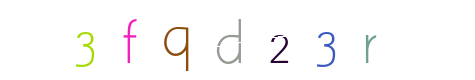2: (213, 0, 293, 80)
3: (47, 0, 127, 80), (239, 0, 319, 80)
D: (198, 0, 278, 80)
F: (89, 0, 169, 80)
Q: (139, 0, 219, 80)
R: (286, 0, 366, 80)
